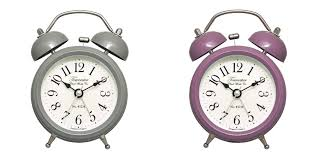alarm_clock: (27, 6, 130, 149)
